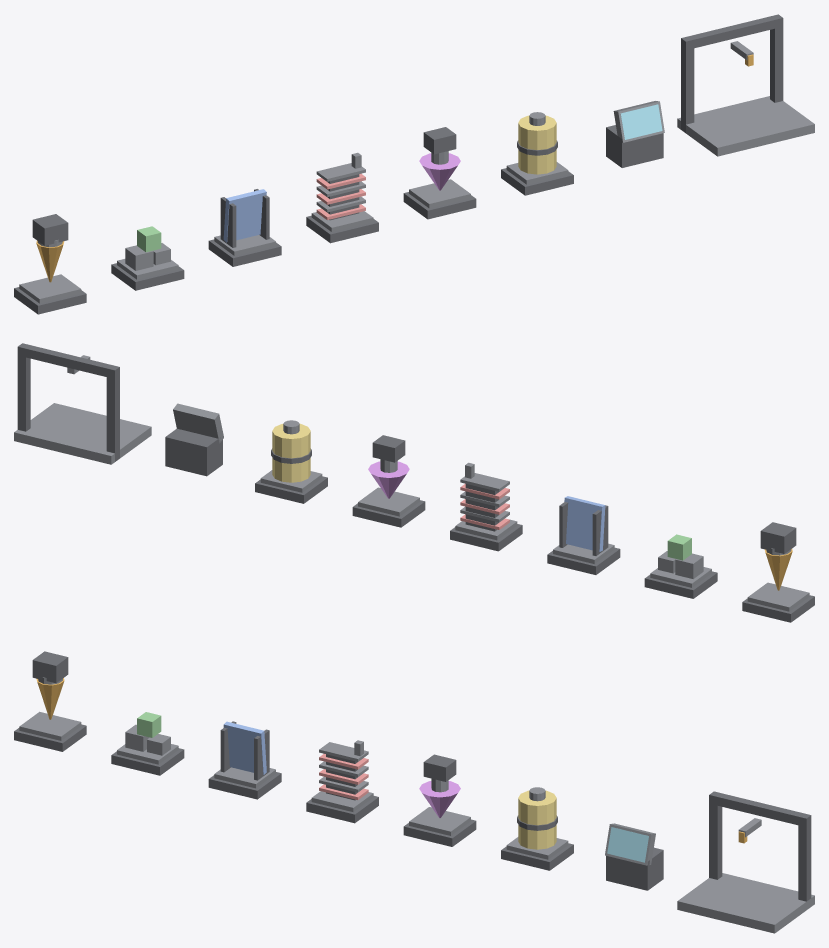
Rendered from workshop_props.fbx.
The picture shows the model from 3 angles, top to bottom: view 1: azimuth 30°, elevation 25°; view 2: azimuth 150°, elevation 25°; view 3: azimuth 330°, elevation 25°; orthographic projection.
Visible parts, largest first — view 1: Prop_PaintLift, Prop_Radiator, Prop_Hull, Prop_Fuel, Prop_Engine, Prop_Drill, Prop_Console, Prop_Cargo; view 2: Prop_PaintLift, Prop_Radiator, Prop_Hull, Prop_Fuel, Prop_Engine, Prop_Drill, Prop_Console, Prop_Cargo; view 3: Prop_PaintLift, Prop_Radiator, Prop_Hull, Prop_Fuel, Prop_Engine, Prop_Drill, Prop_Console, Prop_Cargo.
Part boxes in pixels (x1,y1,x2,y2): Prop_PaintLift: [677, 14, 814, 156]; Prop_Radiator: [306, 152, 378, 243]; Prop_Hull: [208, 189, 281, 266]; Prop_Fuel: [501, 112, 573, 195]; Prop_Engine: [403, 127, 476, 219]; Prop_Drill: [14, 214, 86, 314]; Prop_Console: [606, 101, 664, 167]; Prop_Cargo: [111, 226, 184, 290]; Prop_PaintLift: [14, 343, 151, 464]; Prop_Radiator: [450, 462, 522, 551]; Prop_Hull: [547, 496, 620, 574]; Prop_Fuel: [255, 420, 327, 503]; Prop_Engine: [352, 435, 425, 527]; Prop_Drill: [742, 522, 814, 622]; Prop_Console: [165, 403, 223, 476]; Prop_Cargo: [644, 534, 717, 598]; Prop_PaintLift: [677, 791, 814, 933]; Prop_Radiator: [306, 740, 378, 823]; Prop_Hull: [208, 721, 281, 799]; Prop_Fuel: [501, 787, 573, 870]; Prop_Engine: [403, 754, 476, 846]; Prop_Drill: [14, 651, 86, 751]; Prop_Console: [605, 823, 663, 890]; Prop_Cargo: [111, 712, 184, 775].
Bounding box in the file's own units: 110 × 12.6 × 10.
